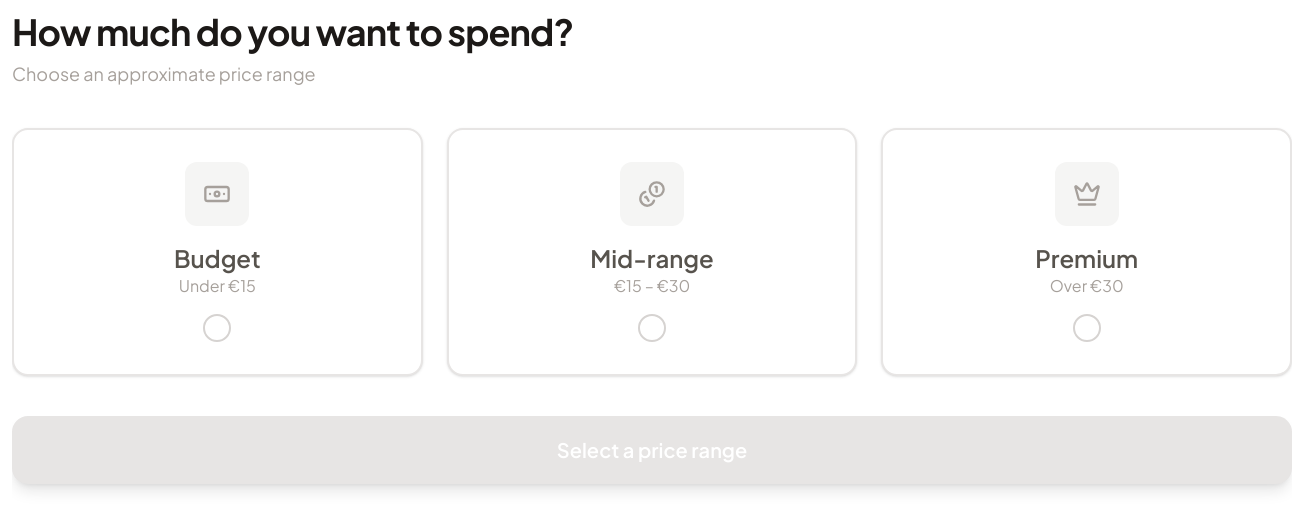
Test: QuestionPrice › English › button shows Continue in English after selection
Step 1. Click the text "Mid-range" → (652, 258), box left=590, top=242, right=714, bottom=274
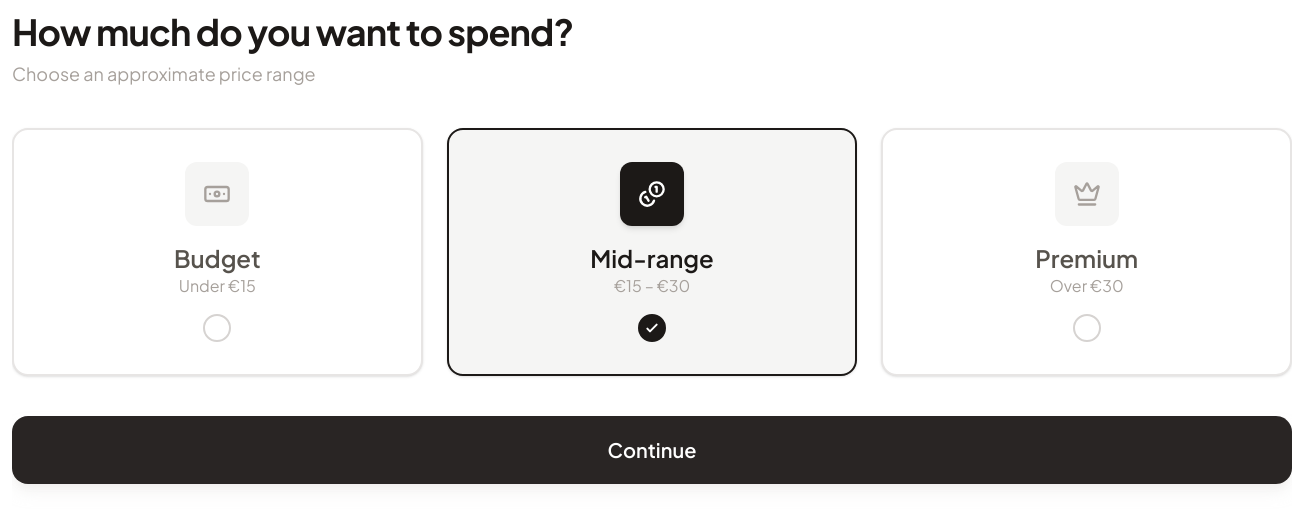
Expected: the button "Continue" is enabled, left=12, top=416, right=1292, bottom=484
